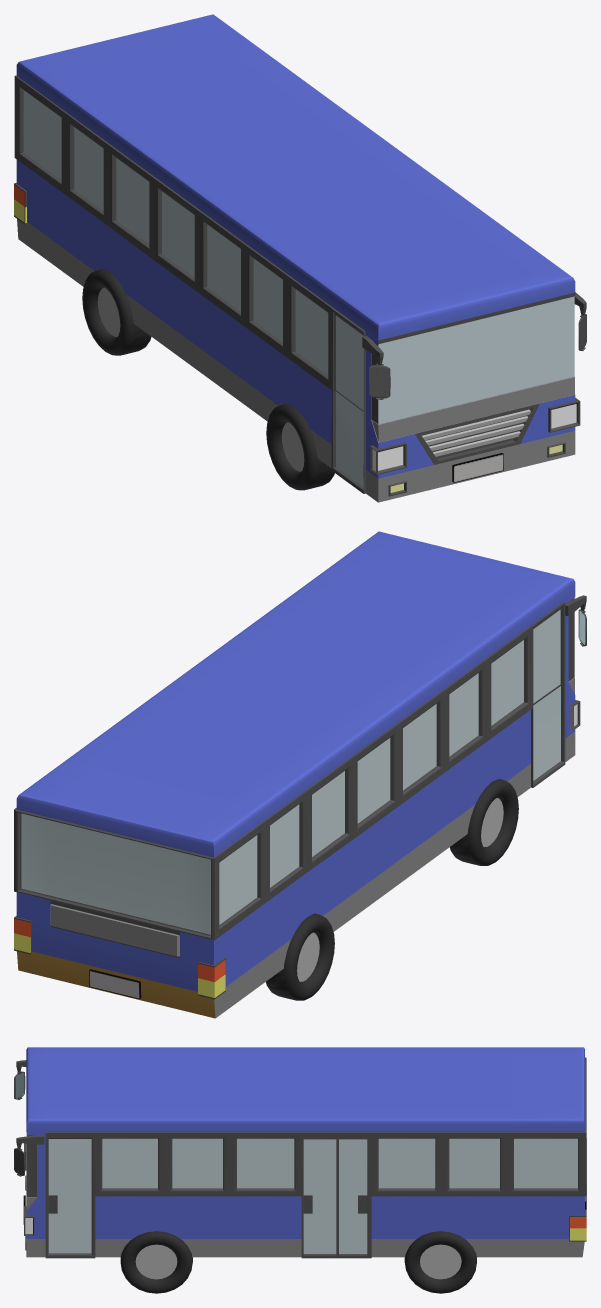
Rendered from Bus_Fixed.fbx.
3 views of the same model, one above another, from view 1: azimuth 30°, elevation 25°; view 2: azimuth 150°, elevation 25°; view 3: azimuth 270°, elevation 25° (orthographic). The views are drawn at different scales.
Parts seen in each view (by area): view 1: pCube1, polySurface70, polySurface68, polySurface2, polySurface65, pasted__Liscense_Plate12, pCube17; view 2: pCube1, polySurface70, polySurface68, TailLight, pasted__Liscense_Plate11; view 3: pCube1, polySurface69, polySurface67, polySurface65, TailLight, polySurface63.
Part boxes in pixels (x1=…): pCube1: x1=14, y1=14, x2=575, y2=502; polySurface70: x1=82, y1=269, x2=151, y2=355; polySurface68: x1=266, y1=403, x2=334, y2=490; polySurface2: x1=369, y1=398, x2=580, y2=475; polySurface65: x1=369, y1=314, x2=586, y2=399; pasted__Liscense_Plate12: x1=452, y1=453, x2=503, y2=482; pCube17: x1=422, y1=409, x2=530, y2=440; pCube1: x1=14, y1=531, x2=575, y2=1018; polySurface70: x1=266, y1=913, x2=334, y2=1000; polySurface68: x1=449, y1=779, x2=518, y2=865; TailLight: x1=14, y1=916, x2=225, y2=999; pasted__Liscense_Plate11: x1=89, y1=969, x2=141, y2=998; pCube1: x1=25, y1=1047, x2=586, y2=1258; polySurface69: x1=404, y1=1231, x2=476, y2=1293; polySurface67: x1=120, y1=1231, x2=192, y2=1293; polySurface65: x1=14, y1=1071, x2=25, y2=1176; TailLight: x1=569, y1=1209, x2=586, y2=1241; polySurface63: x1=16, y1=1060, x2=44, y2=1148.
Size of the model in its own units: 5.52 by 5.42 by 16.29.
Materials: 17 (3 with a texture image).
